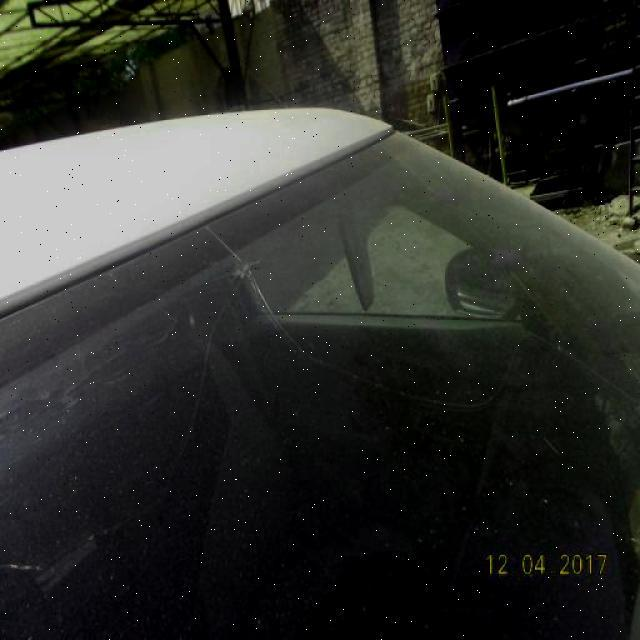car damage: (221, 245, 264, 308)
